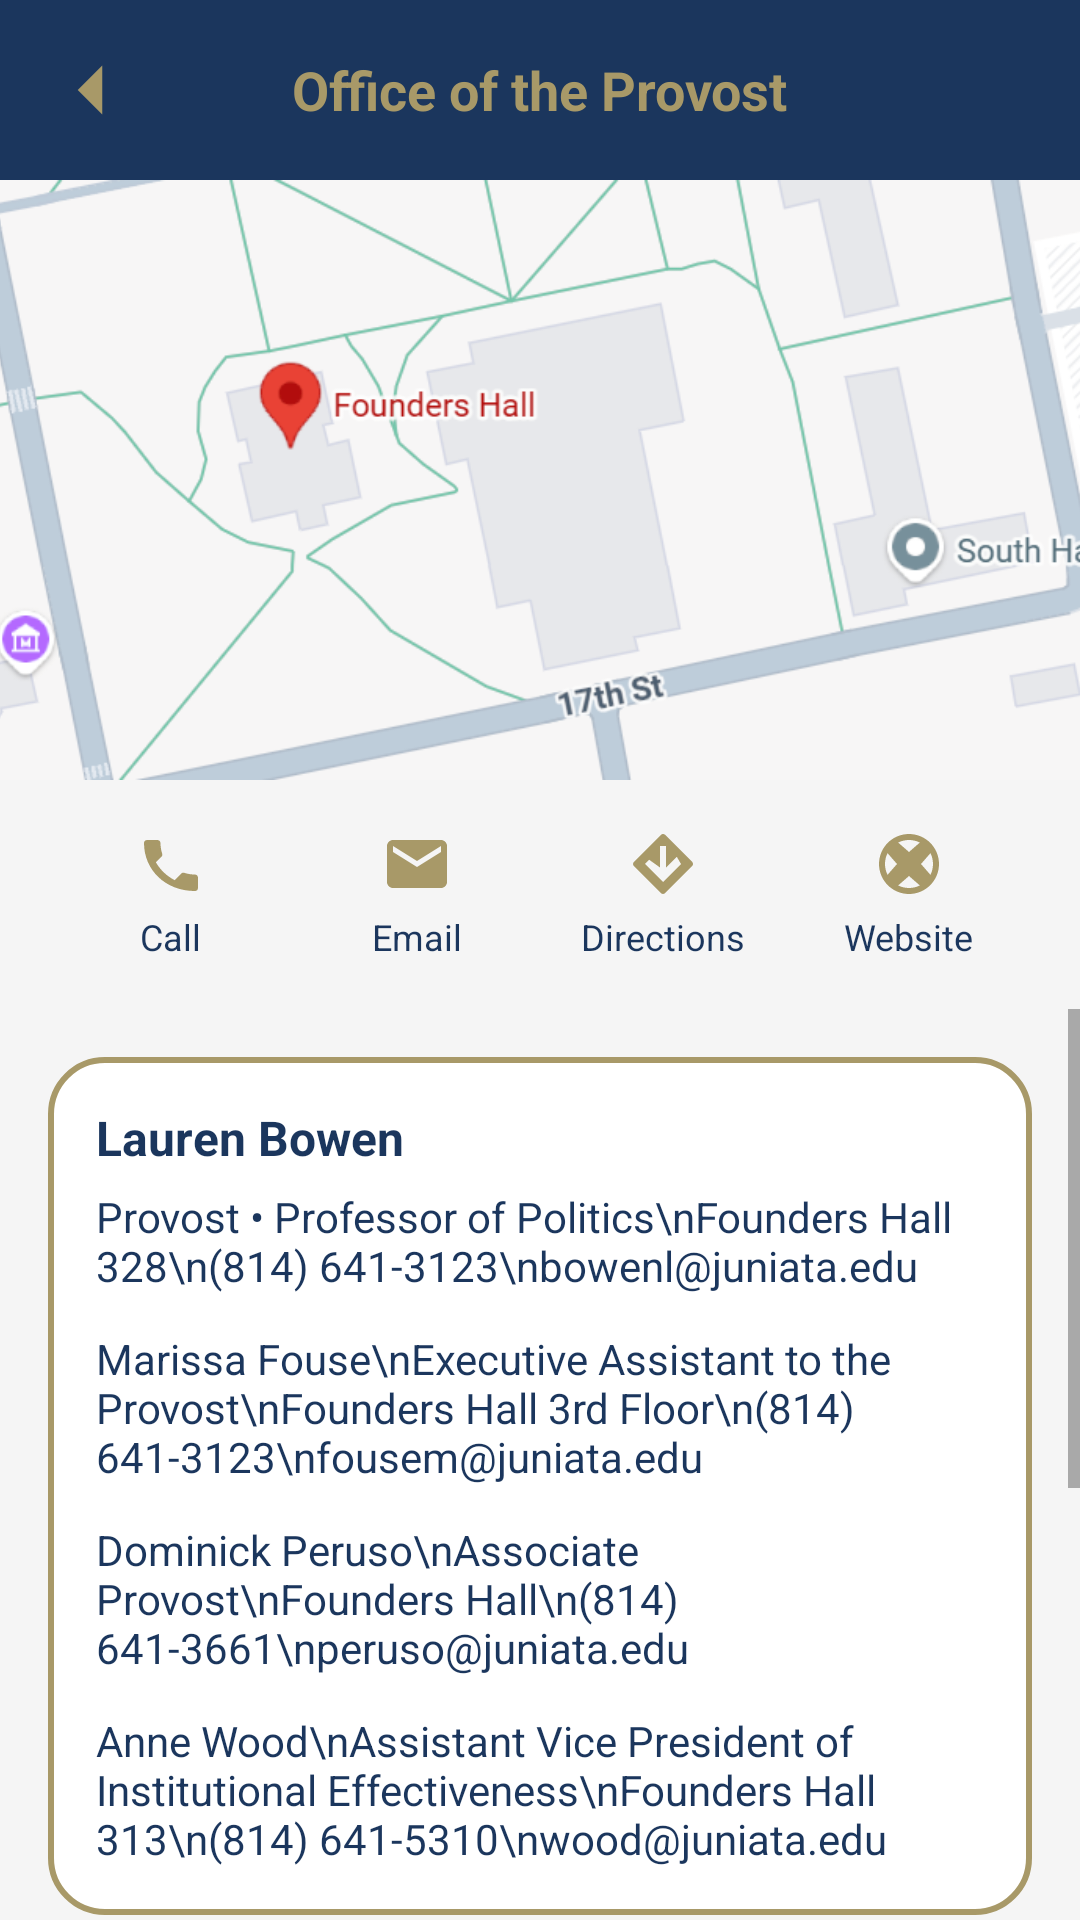

Icon bounding boxes for this 1080w x 1920h phone screenshot, format Rect(x1, y1, x2, y2):
back: Rect(78, 66, 103, 114)
